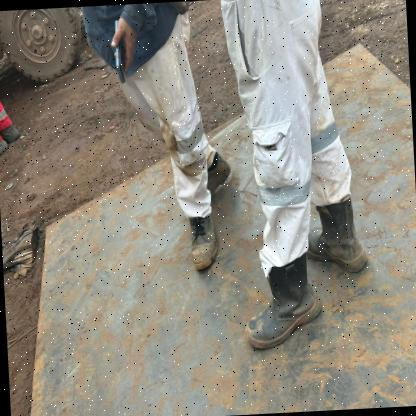bota: (236, 261, 324, 352), (308, 194, 369, 285), (186, 208, 218, 267)
